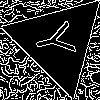Y: (33, 17, 86, 62)
